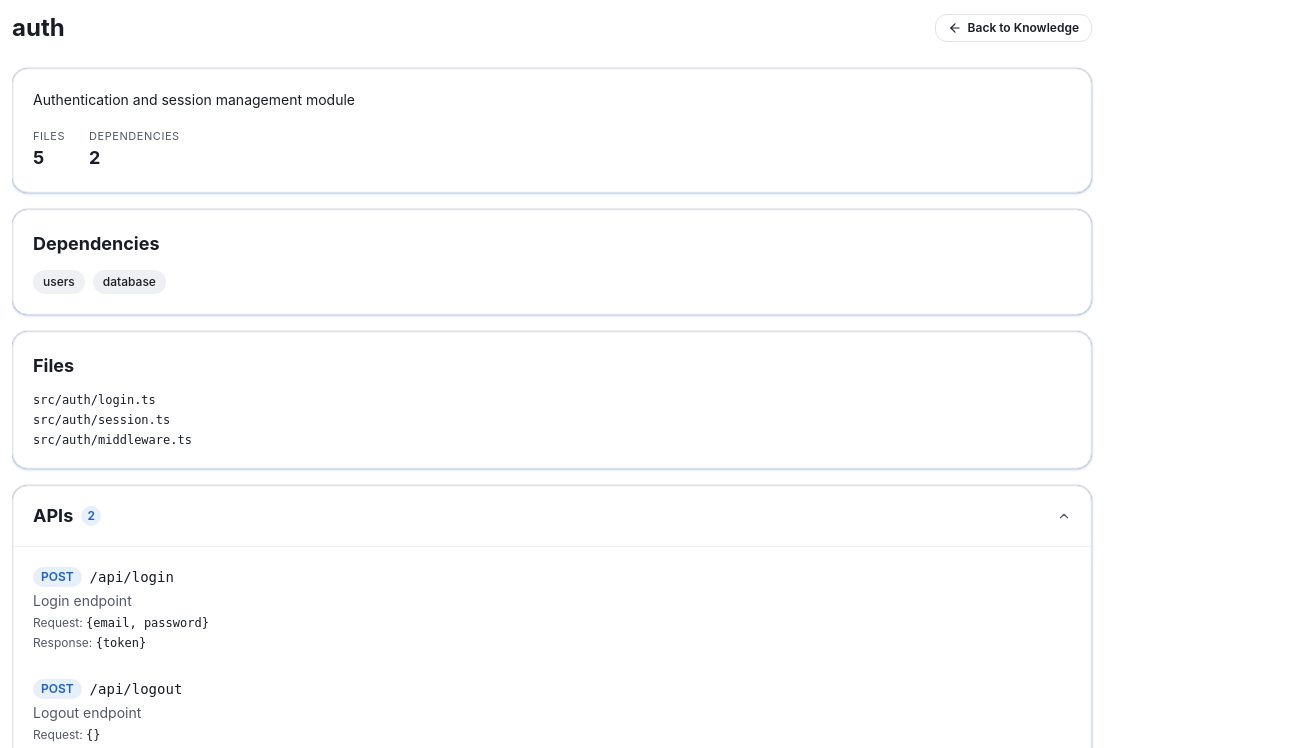
Test: ModuleDetailPage › hides populated section content when collapsed
The width and height of the screenshot is (1292, 748).
Check: the text "/api/login" is shown, box [90,567,174,587]
Click the button "APIs 2": (53, 516) [13,486,1091,546]
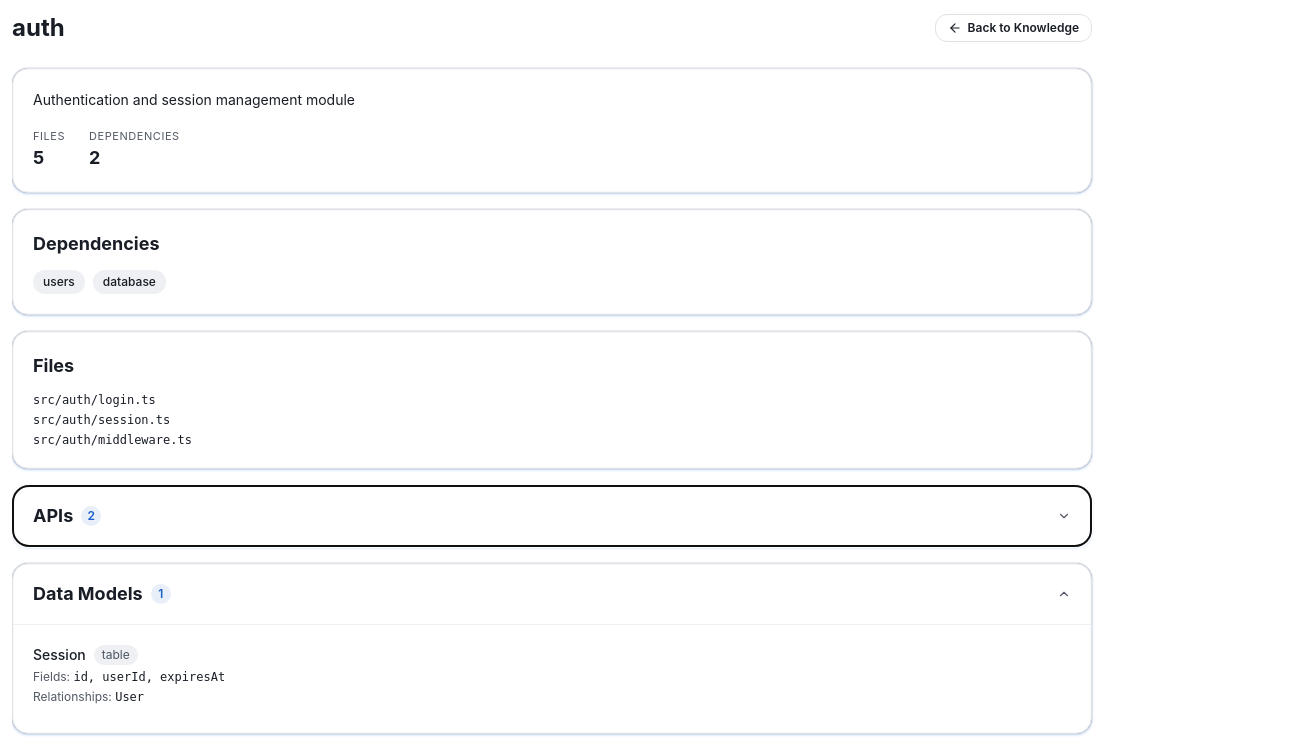
Check: the text "/api/login" is gone
Check: the text "Login endpoint" is gone
